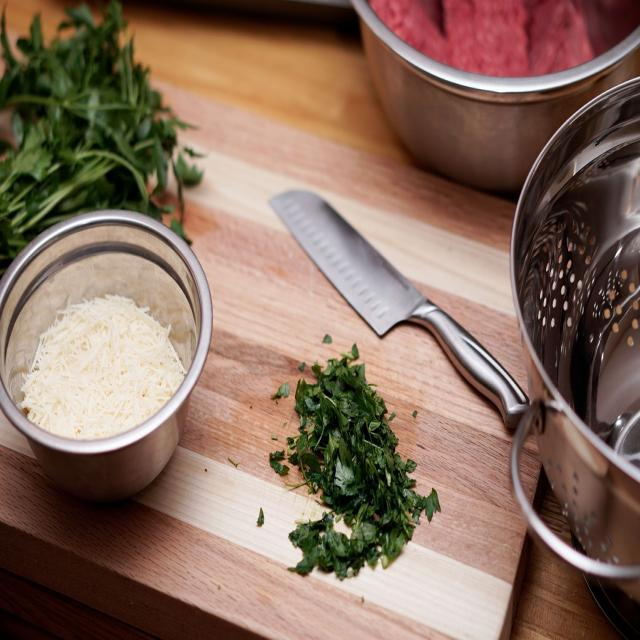Knife: (270, 190, 529, 428)
